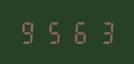five: (42, 20, 65, 44)
nine: (18, 20, 41, 44)
six: (66, 20, 89, 44)
three: (90, 20, 113, 44)
